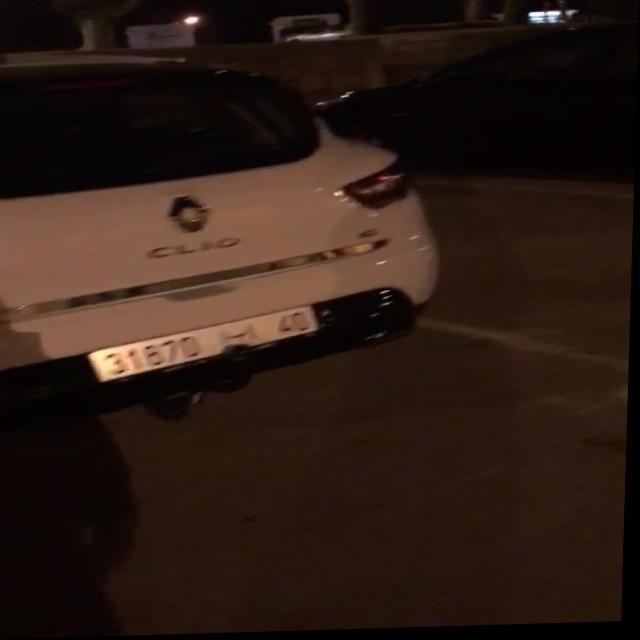License-Plate: (91, 308, 319, 382)
